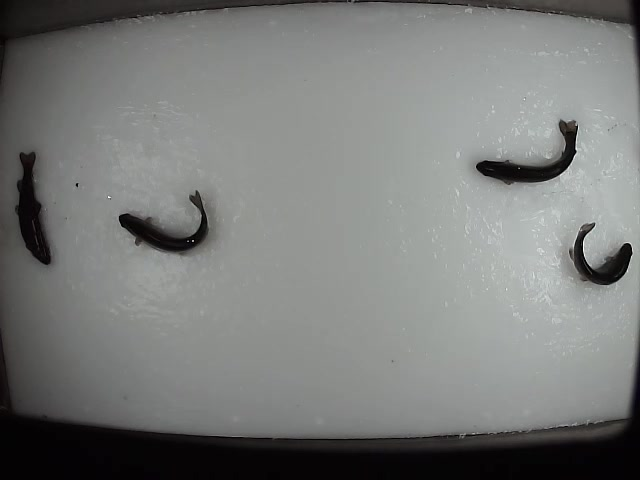fish: (474, 115, 581, 186), (117, 187, 210, 254), (11, 146, 52, 266), (567, 217, 633, 286)
